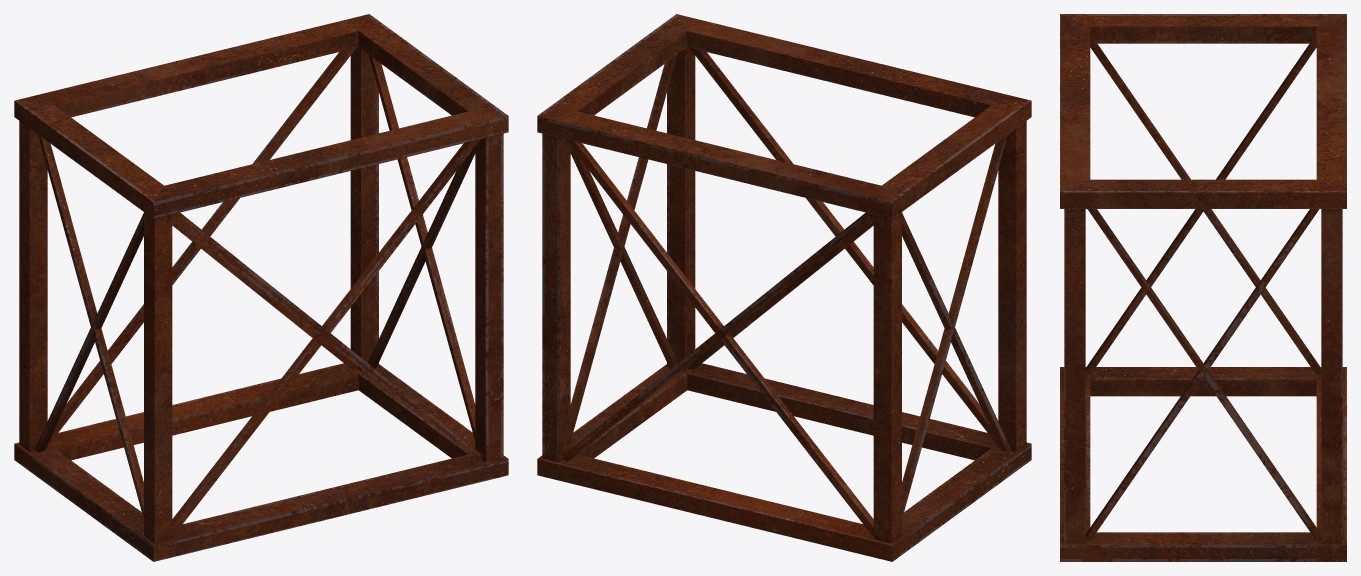
File: Frame.fbx
The picture shows the model from 3 angles, left to right: view 1: azimuth 30°, elevation 25°; view 2: azimuth 150°, elevation 25°; view 3: azimuth 270°, elevation 25°; orthographic projection. The views are drawn at different scales.
Parts seen in each view (by area): view 1: Frame; view 2: Frame; view 3: Frame.
Part boxes in pixels (x1,y1,x2,y2): Frame: [14, 14, 508, 561]; Frame: [537, 14, 1031, 561]; Frame: [1060, 14, 1346, 561].
Size of the model in its own units: 2.5 by 2.42 by 1.7.
